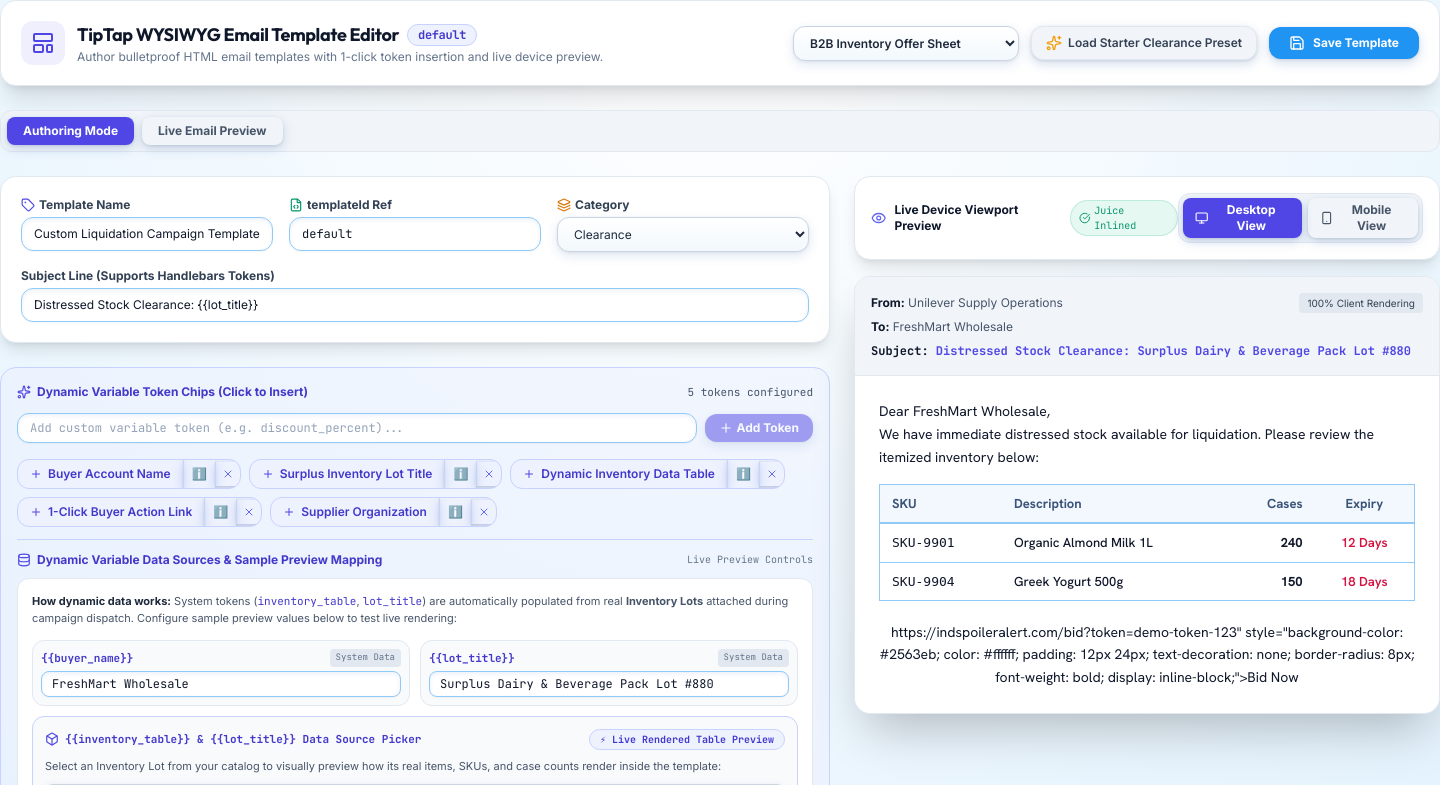
Live Email Client Preview Tab & Device Viewport Toggles › switches to live email preview mode when preview tab is clicked
Click the button with test id "tab-preview-mode".
click(212, 131)  # box [142,117,282,145]
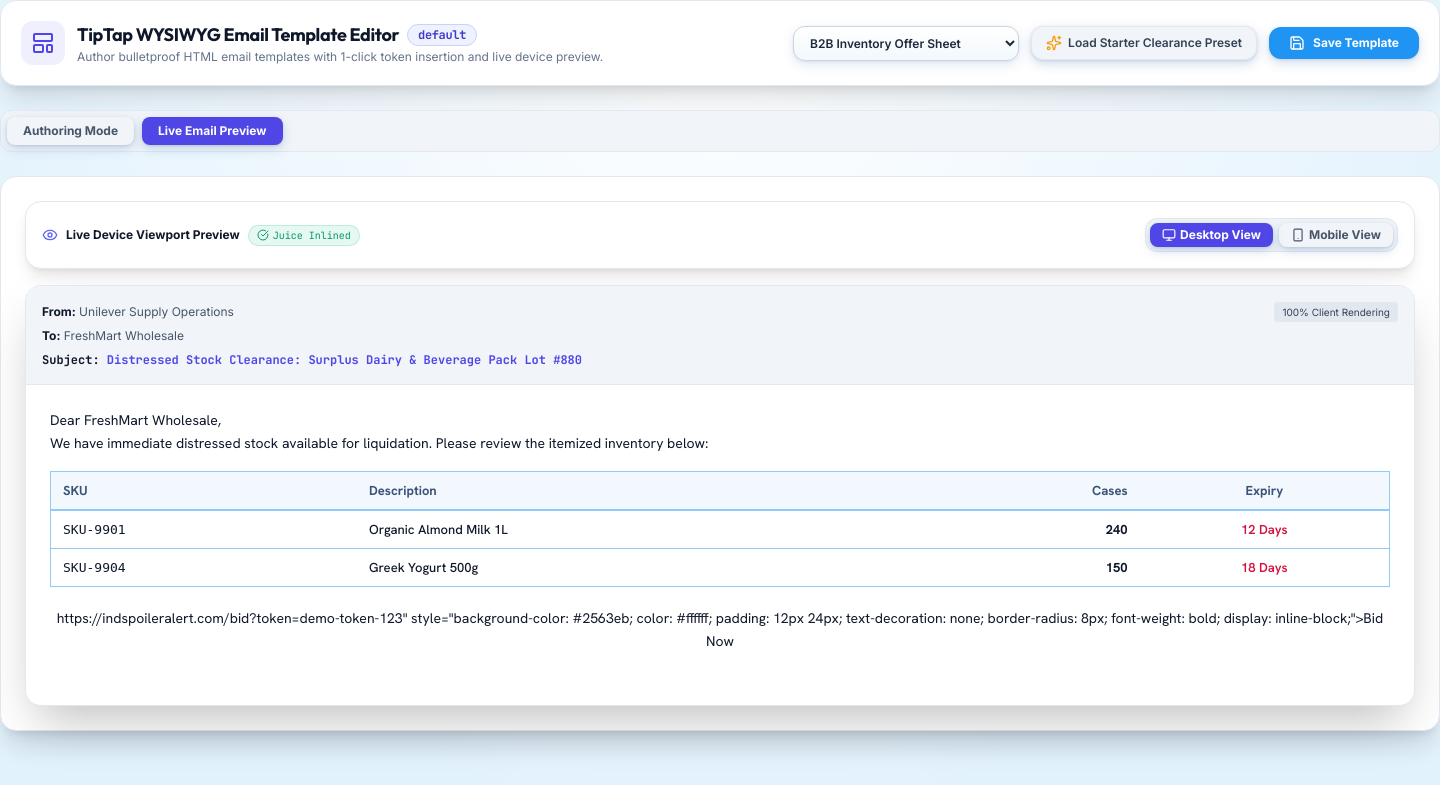
Check: the element with test id "full-width-live-preview" is shown
